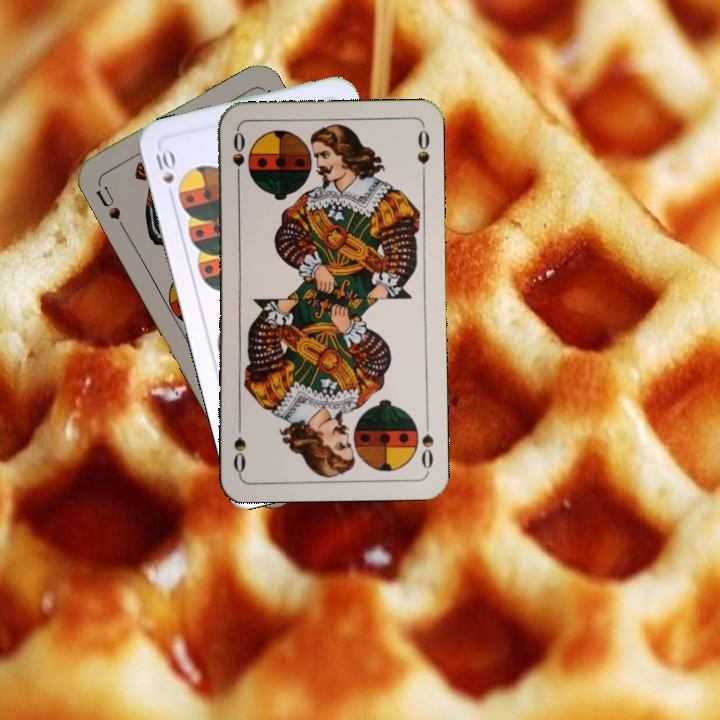S10: (150, 144, 178, 203)
SO: (417, 414, 437, 471), (229, 127, 247, 186)
SU: (92, 178, 128, 232)
